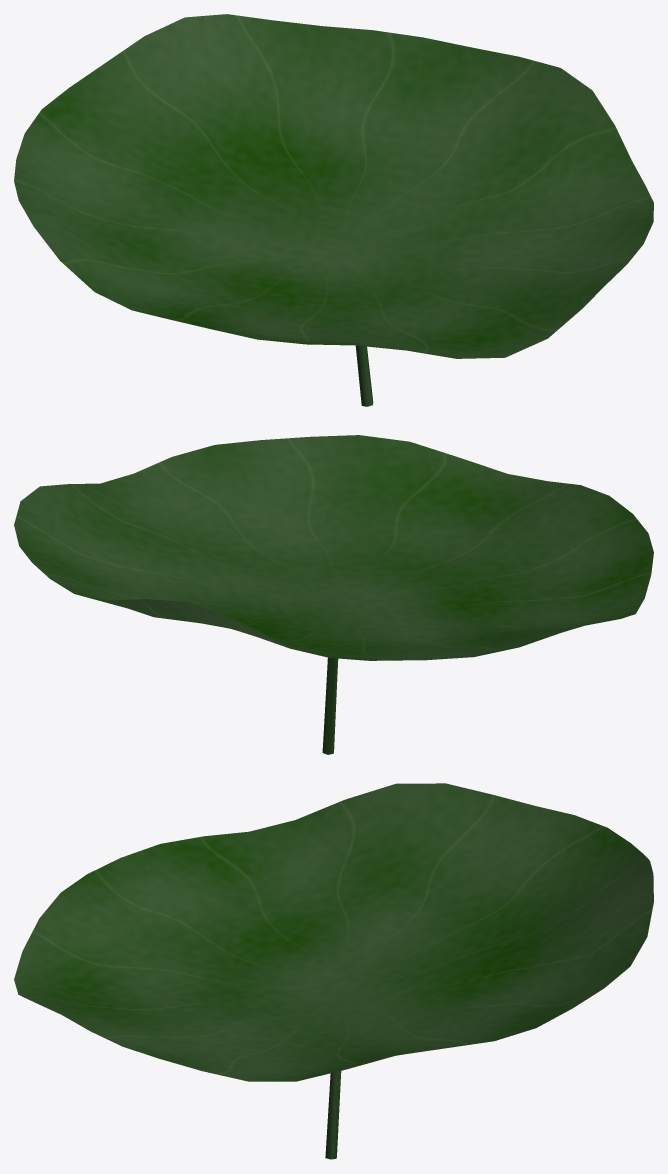
File: leaf_A_lod0.glb
The picture shows the model from 3 angles, top to bottom: view 1: azimuth 30°, elevation 25°; view 2: azimuth 150°, elevation 25°; view 3: azimuth 270°, elevation 25°; orthographic projection.
Parts seen in each view (by area): view 1: leaf_A_L0__leaf; view 2: leaf_A_L0__leaf; view 3: leaf_A_L0__leaf.
Boxes of the visible parts, left/top/right/bottom form: leaf_A_L0__leaf: left=14, top=14, right=653, bottom=406; leaf_A_L0__leaf: left=14, top=435, right=653, bottom=754; leaf_A_L0__leaf: left=14, top=783, right=653, bottom=1159.
Bounding box in the file's own units: 1.19 × 0.557 × 1.18.
1 material, 1 textured.
